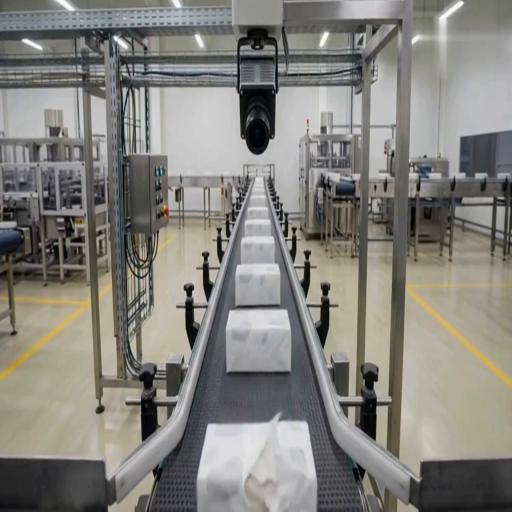defective: (195, 417, 322, 512)
good: (226, 309, 291, 373), (236, 264, 280, 306), (241, 237, 275, 264), (245, 220, 271, 236), (247, 207, 269, 219), (250, 194, 267, 207), (252, 186, 265, 195), (255, 177, 263, 186)
